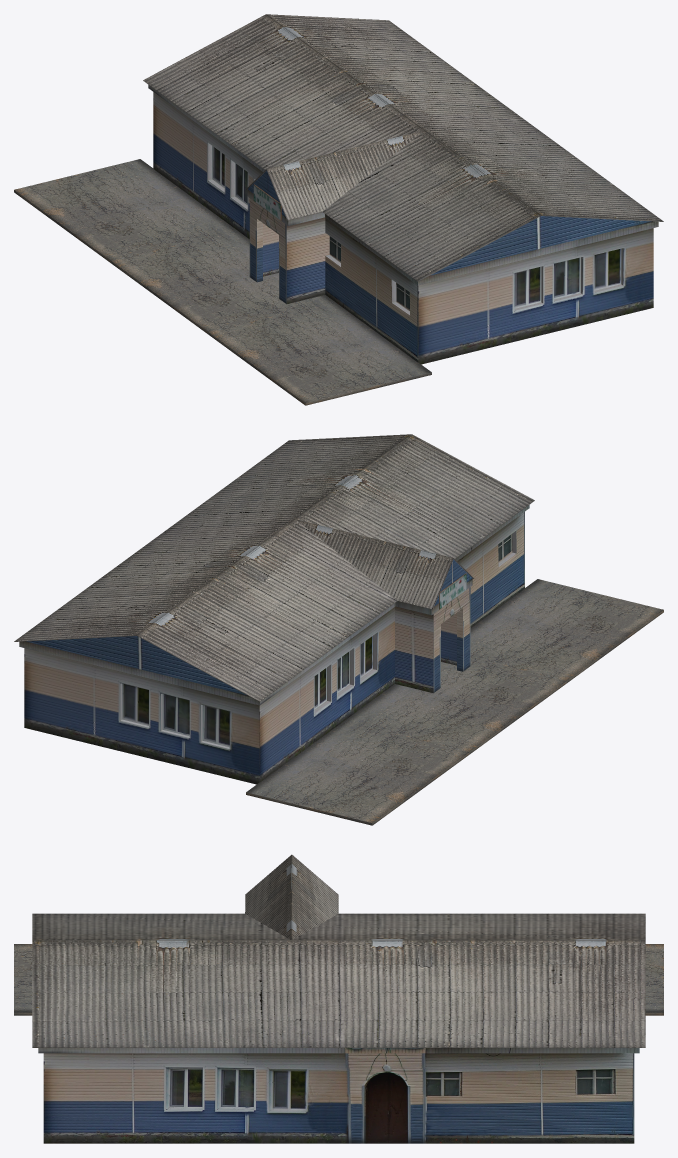
File: a320_kafe_sohoba.FBX
The picture shows the model from 3 angles, top to bottom: view 1: azimuth 30°, elevation 25°; view 2: azimuth 150°, elevation 25°; view 3: azimuth 270°, elevation 25°; orthographic projection. The views are drawn at different scales.
Visible parts, largest first — view 1: a320_kafe_sohoba; view 2: a320_kafe_sohoba; view 3: a320_kafe_sohoba.
Part boxes in pixels (bbox=[...]): a320_kafe_sohoba: bbox=[14, 14, 663, 405]; a320_kafe_sohoba: bbox=[14, 434, 663, 825]; a320_kafe_sohoba: bbox=[14, 854, 663, 1143].
Size of the model in its own units: 14.96 by 20.61 by 4.86.
